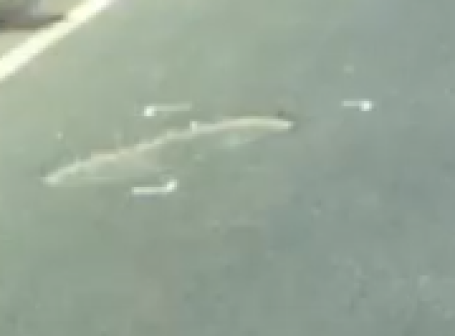Berlubang: (28, 87, 339, 198)
